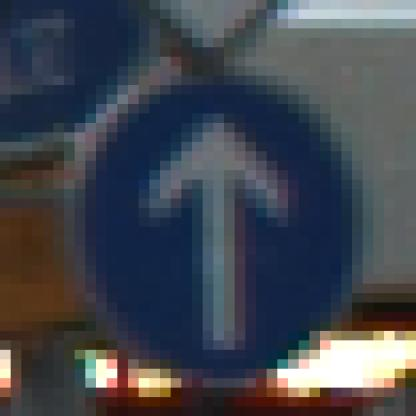AheadOnly: (65, 48, 364, 370)
